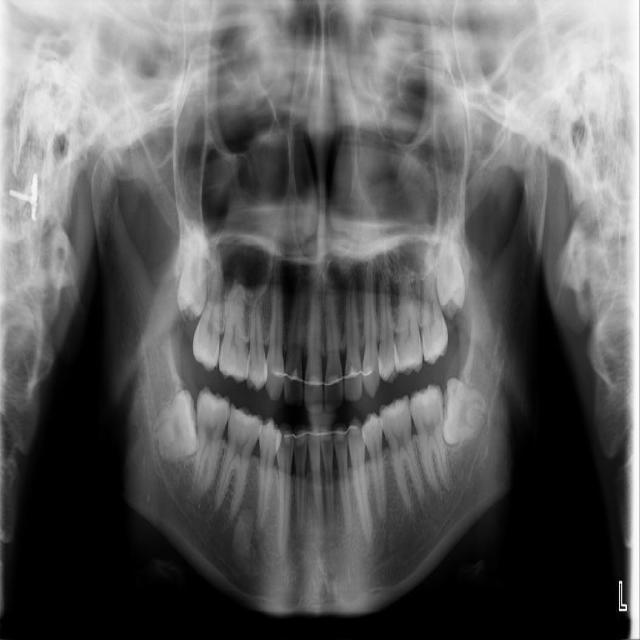3M ESPE Implant: (176, 218, 211, 322)
73: (582, 566, 586, 572)
BioHorizons Implant: (412, 224, 450, 365)
BioLife Implant: (432, 206, 466, 318)
Biomet 3i Implant: (441, 377, 487, 445)
Blue Sky Bio Implant: (407, 382, 452, 496)
Caries: (191, 248, 225, 374)
Implant: (190, 387, 232, 499)
Keystone Dental Implant: (138, 387, 216, 469)
